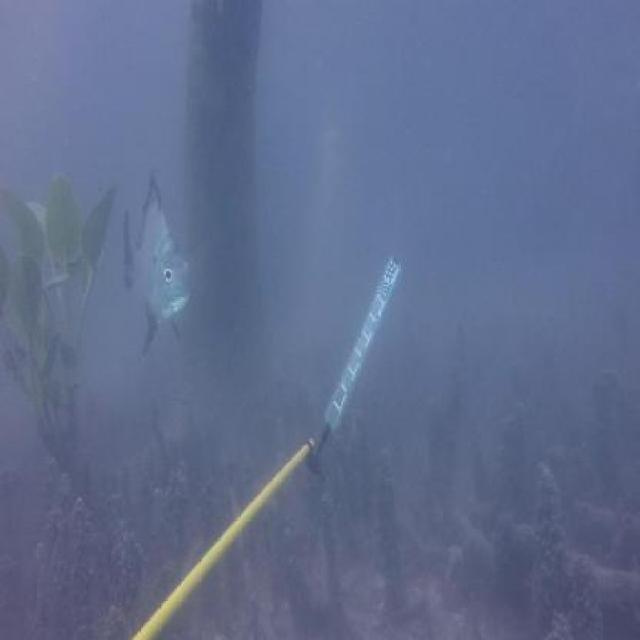acanthopagrus_palmaris: (121, 166, 190, 362)
